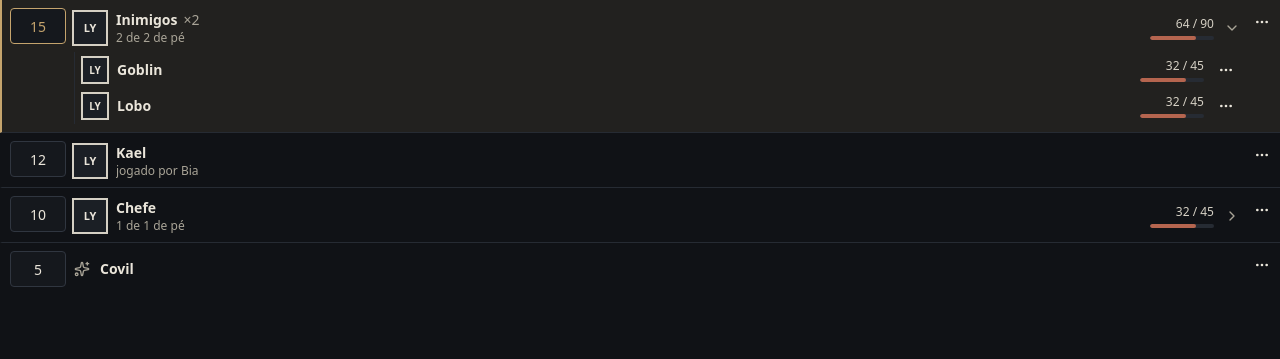
Test: CombatantList › grouped entries › a named entry of one token is a group: opened, its token menu has no "Separar"
This screenshot has width=1280, height=359.
Click the button "LY Chefe 1 de 1 de pé 32 / 45".
click(90, 216)  # box x1=74 y1=198 x2=1240 y2=234
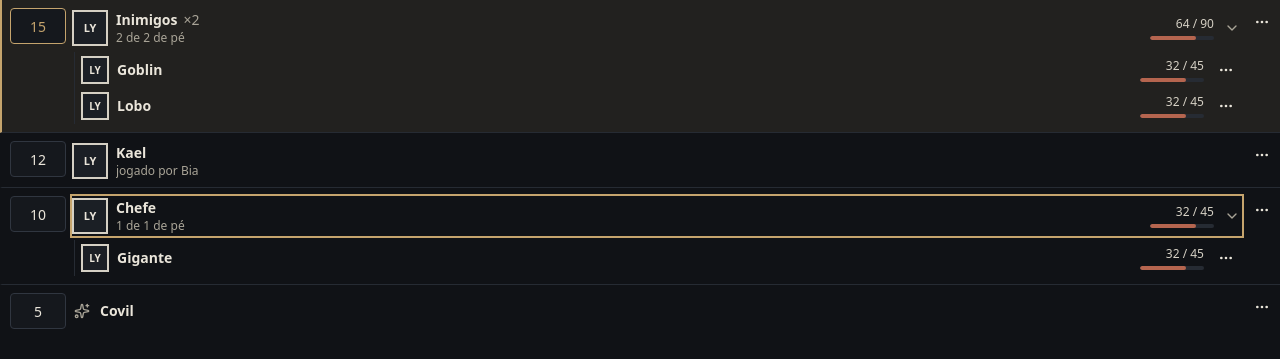
Click the button named "Mais ações de Gigante".
click(1226, 258)  # box x1=1212 y1=244 x2=1240 y2=272
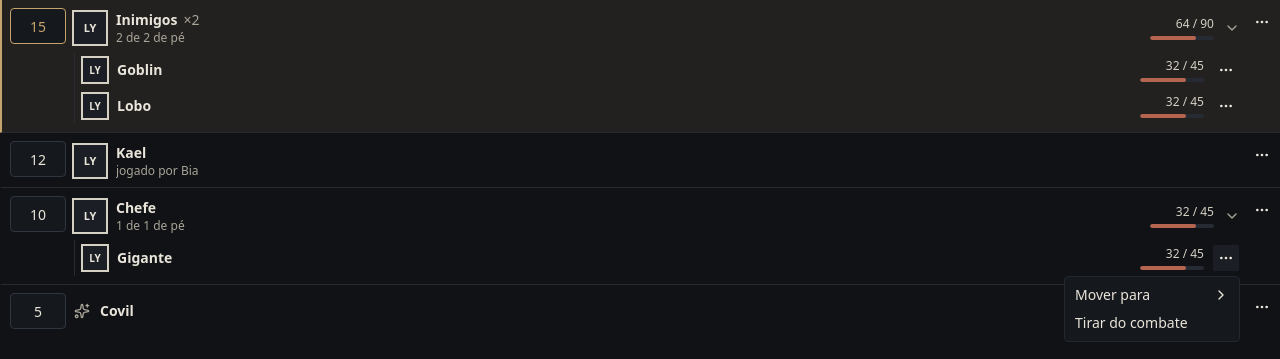
Expected: the menu item "Tirar do combate" is shown, x1=1075 y1=313 x2=1188 y2=332
